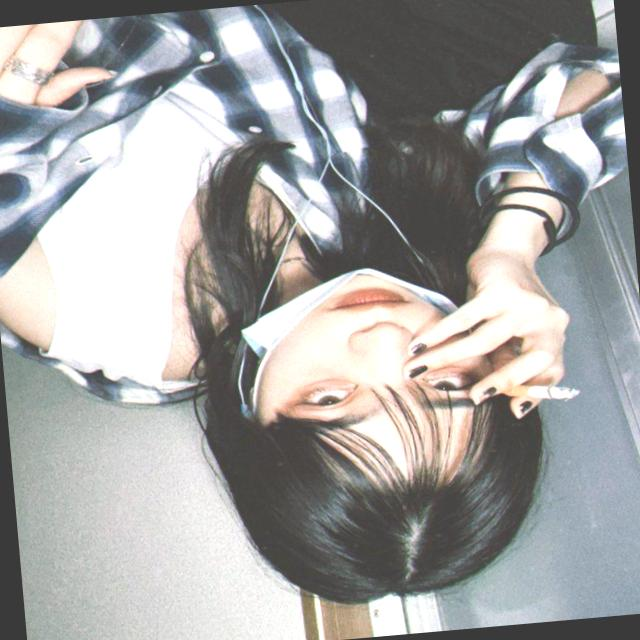cigarette: (462, 360, 602, 421)
